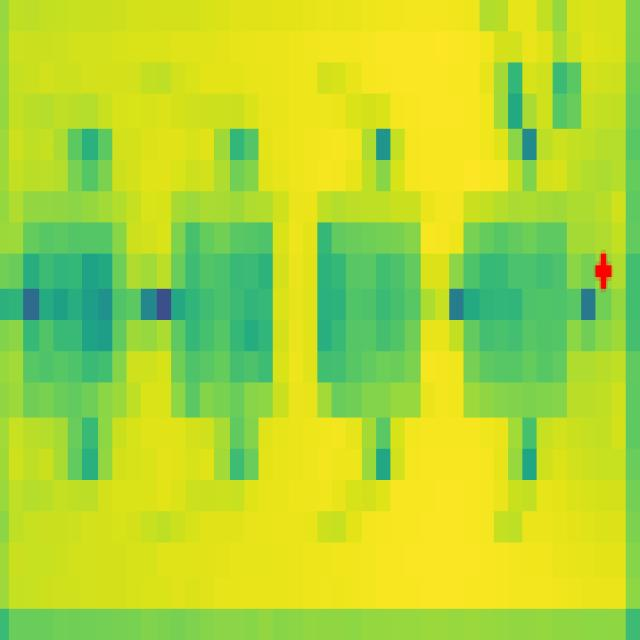Concrete: (457, 205, 566, 419)
Glass: (316, 191, 422, 417)
Metal: (24, 192, 129, 418)
Wood: (170, 189, 276, 418)
